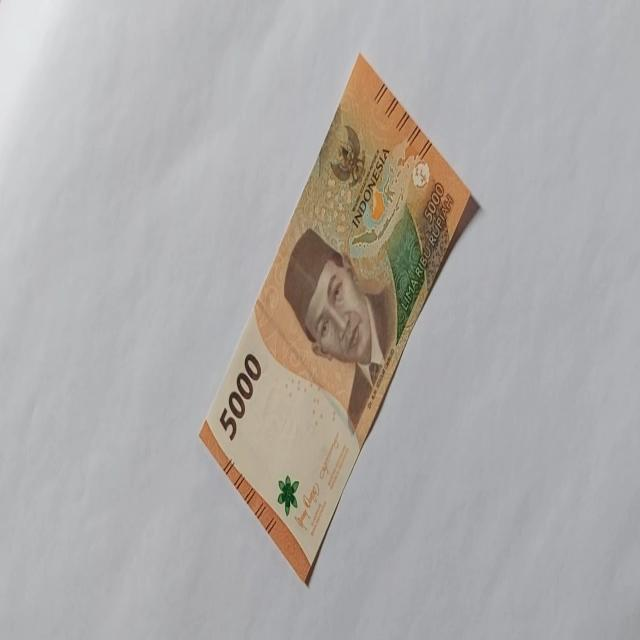lima ribu rupiah: (198, 52, 480, 584), (282, 224, 398, 428)
